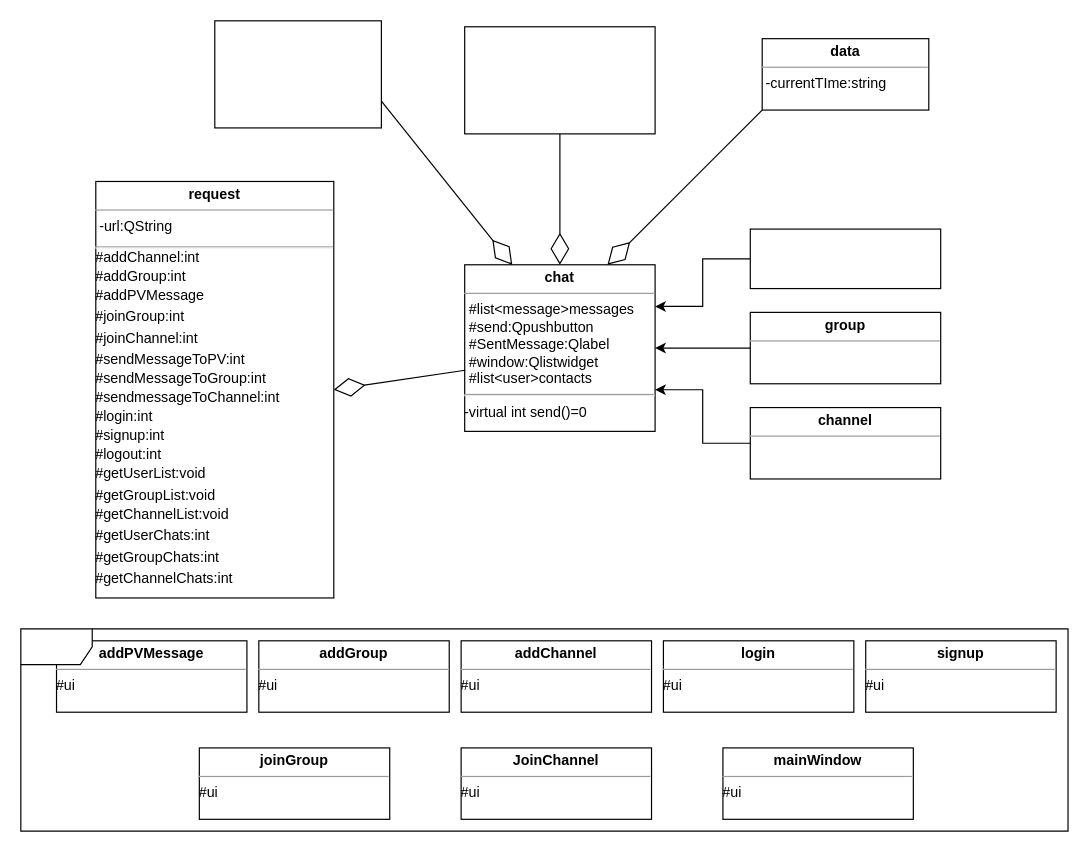
This 1089x852 diagram has some shape labels left out. Each missing label, with the centre of its shape:
"message -User:user -time:data" goes at [297,74].
"pv" goes at [845,258].
"UI" goes at [544,729].
"user -token:string -username:string -password:string -determination:bool" goes at [559,80].
